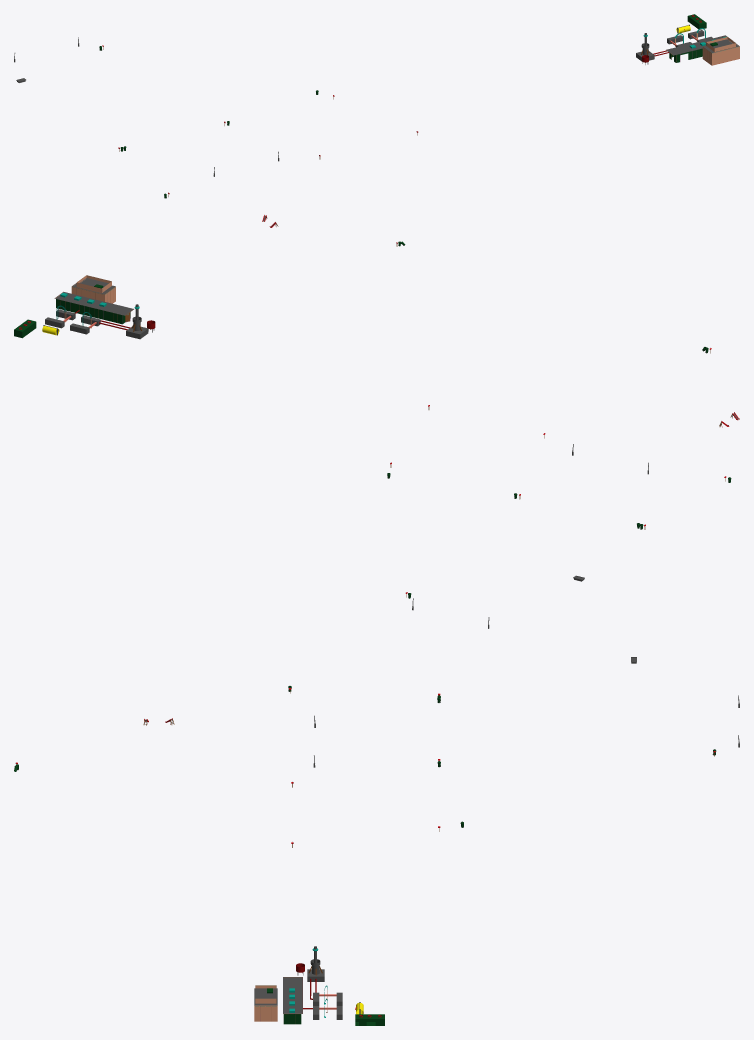
Rendered from object_21_lev1.glb.
3 views of the same model, one above another, from view 1: azimuth 30°, elevation 25°; view 2: azimuth 150°, elevation 25°; view 3: azimuth 270°, elevation 25° (orthographic). The views are drawn at different scales.
Parts seen in each view (by area): view 1: object_21_lev1; view 2: object_21_lev1; view 3: object_21_lev1.
Part boxes in pixels (x1=…): object_21_lev1: x1=14, y1=14, x2=739, y2=246; object_21_lev1: x1=14, y1=275, x2=739, y2=628; object_21_lev1: x1=14, y1=657, x2=739, y2=1025.
Bounding box in the file's own units: 74.06 × 4.62 × 63.42.
1 material, 1 textured.
